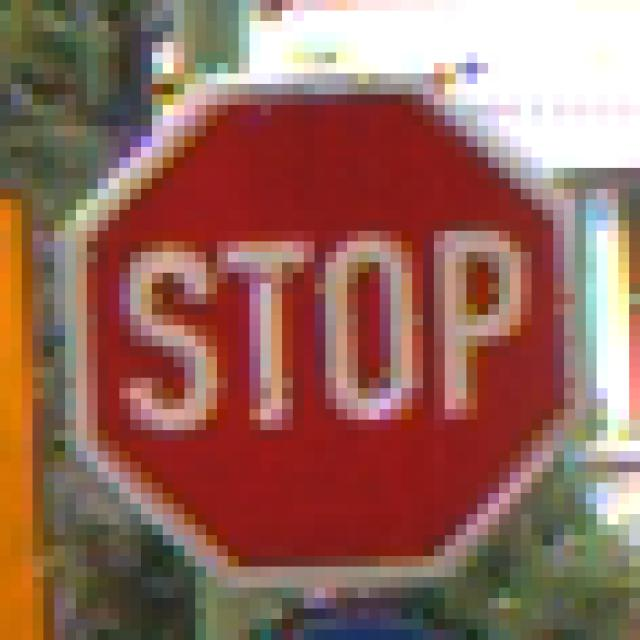STOP: (66, 64, 587, 588)
